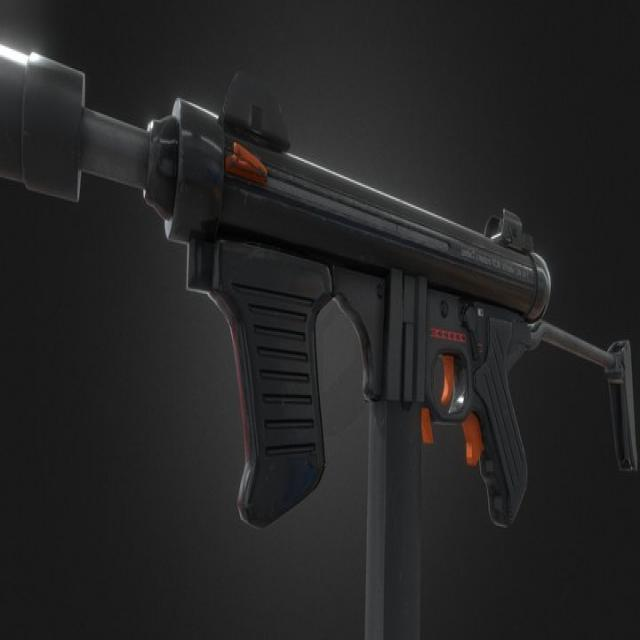smg: (1, 1, 640, 640)
